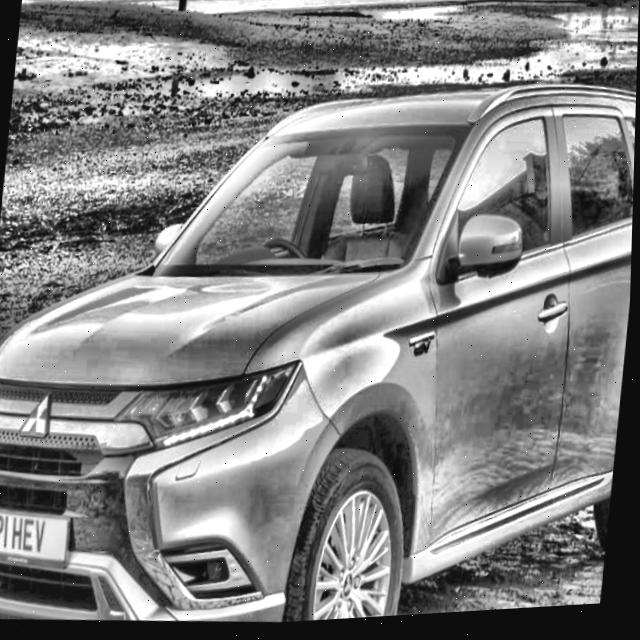light_vehicle: (0, 42, 638, 640)
